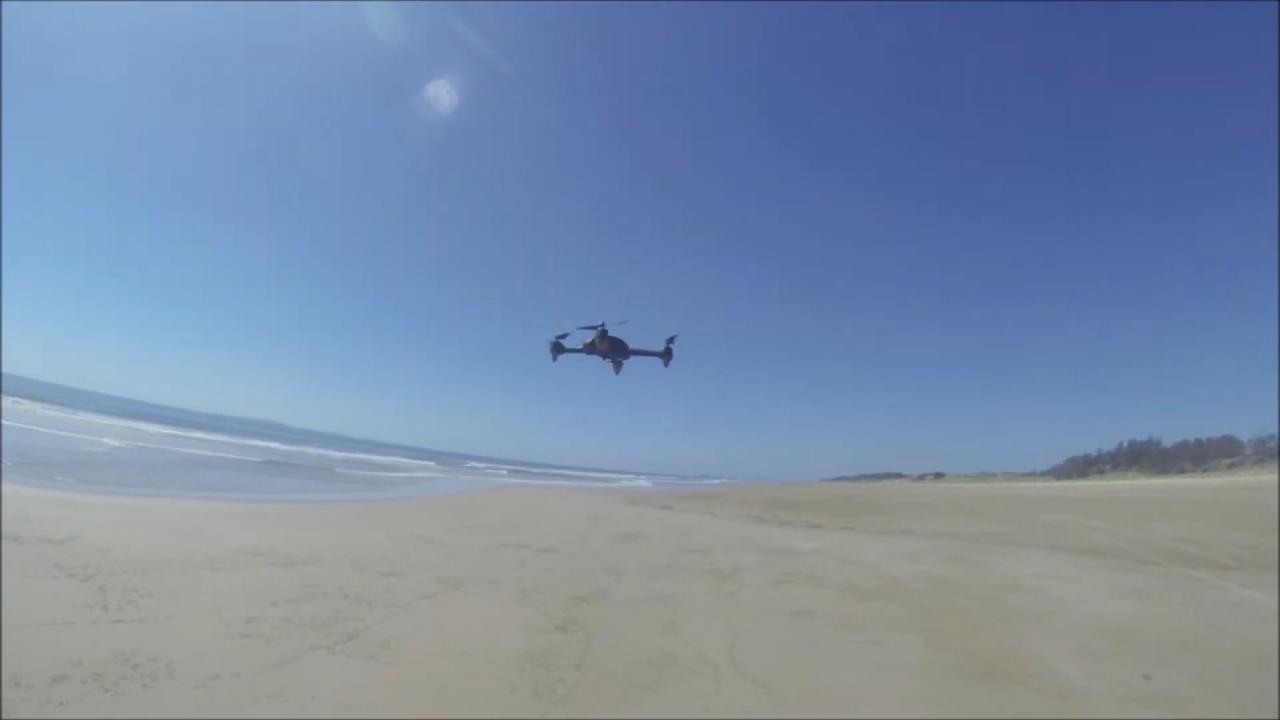Drone: (526, 299, 692, 390)
